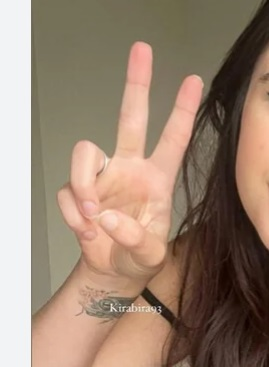peace: (56, 40, 203, 278)
